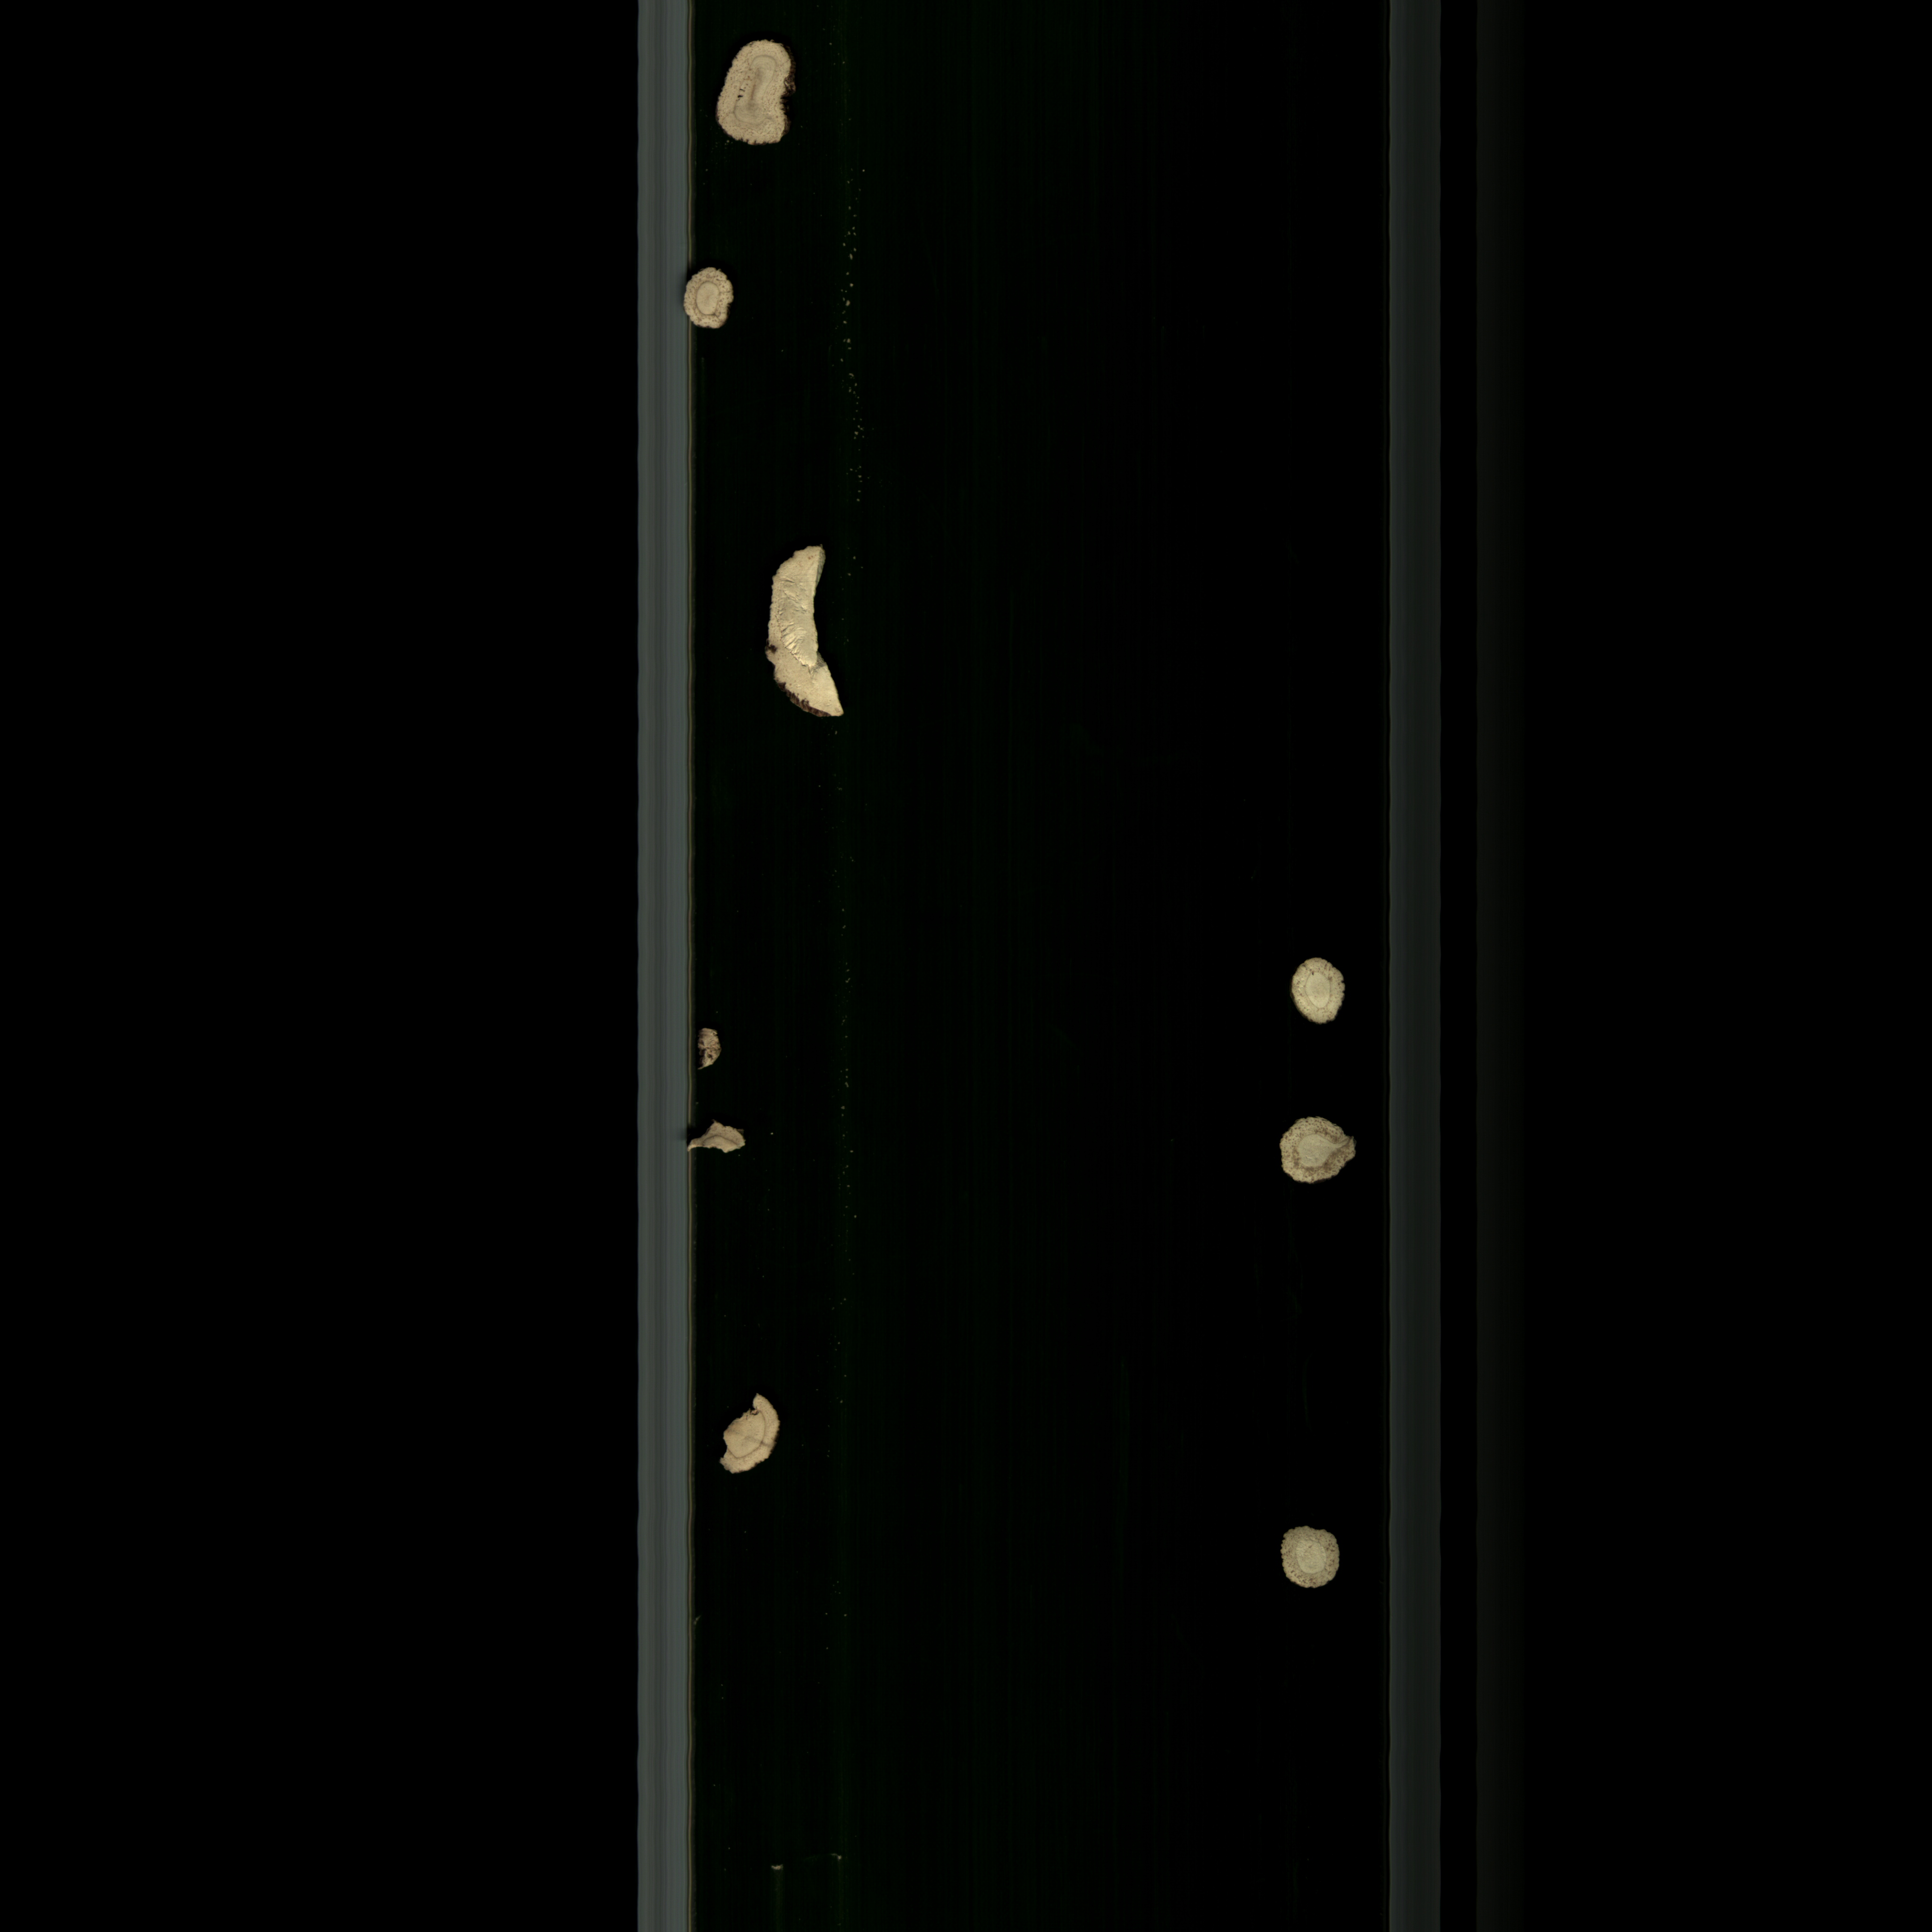debris: (748, 541, 853, 732)
distortion: (715, 27, 809, 163), (690, 1017, 727, 1074)
moldy: (1265, 1104, 1373, 1201), (669, 260, 741, 350), (1267, 1522, 1352, 1598), (717, 1391, 784, 1481), (671, 1118, 761, 1169)
